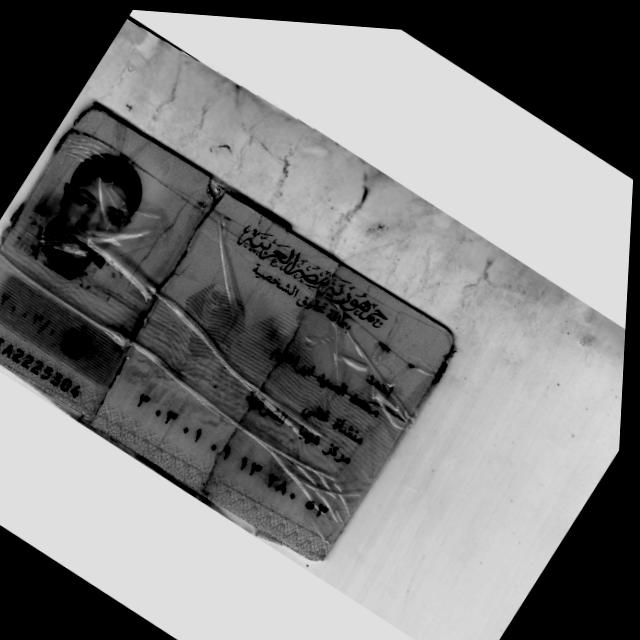id_card: (0, 95, 471, 574)
